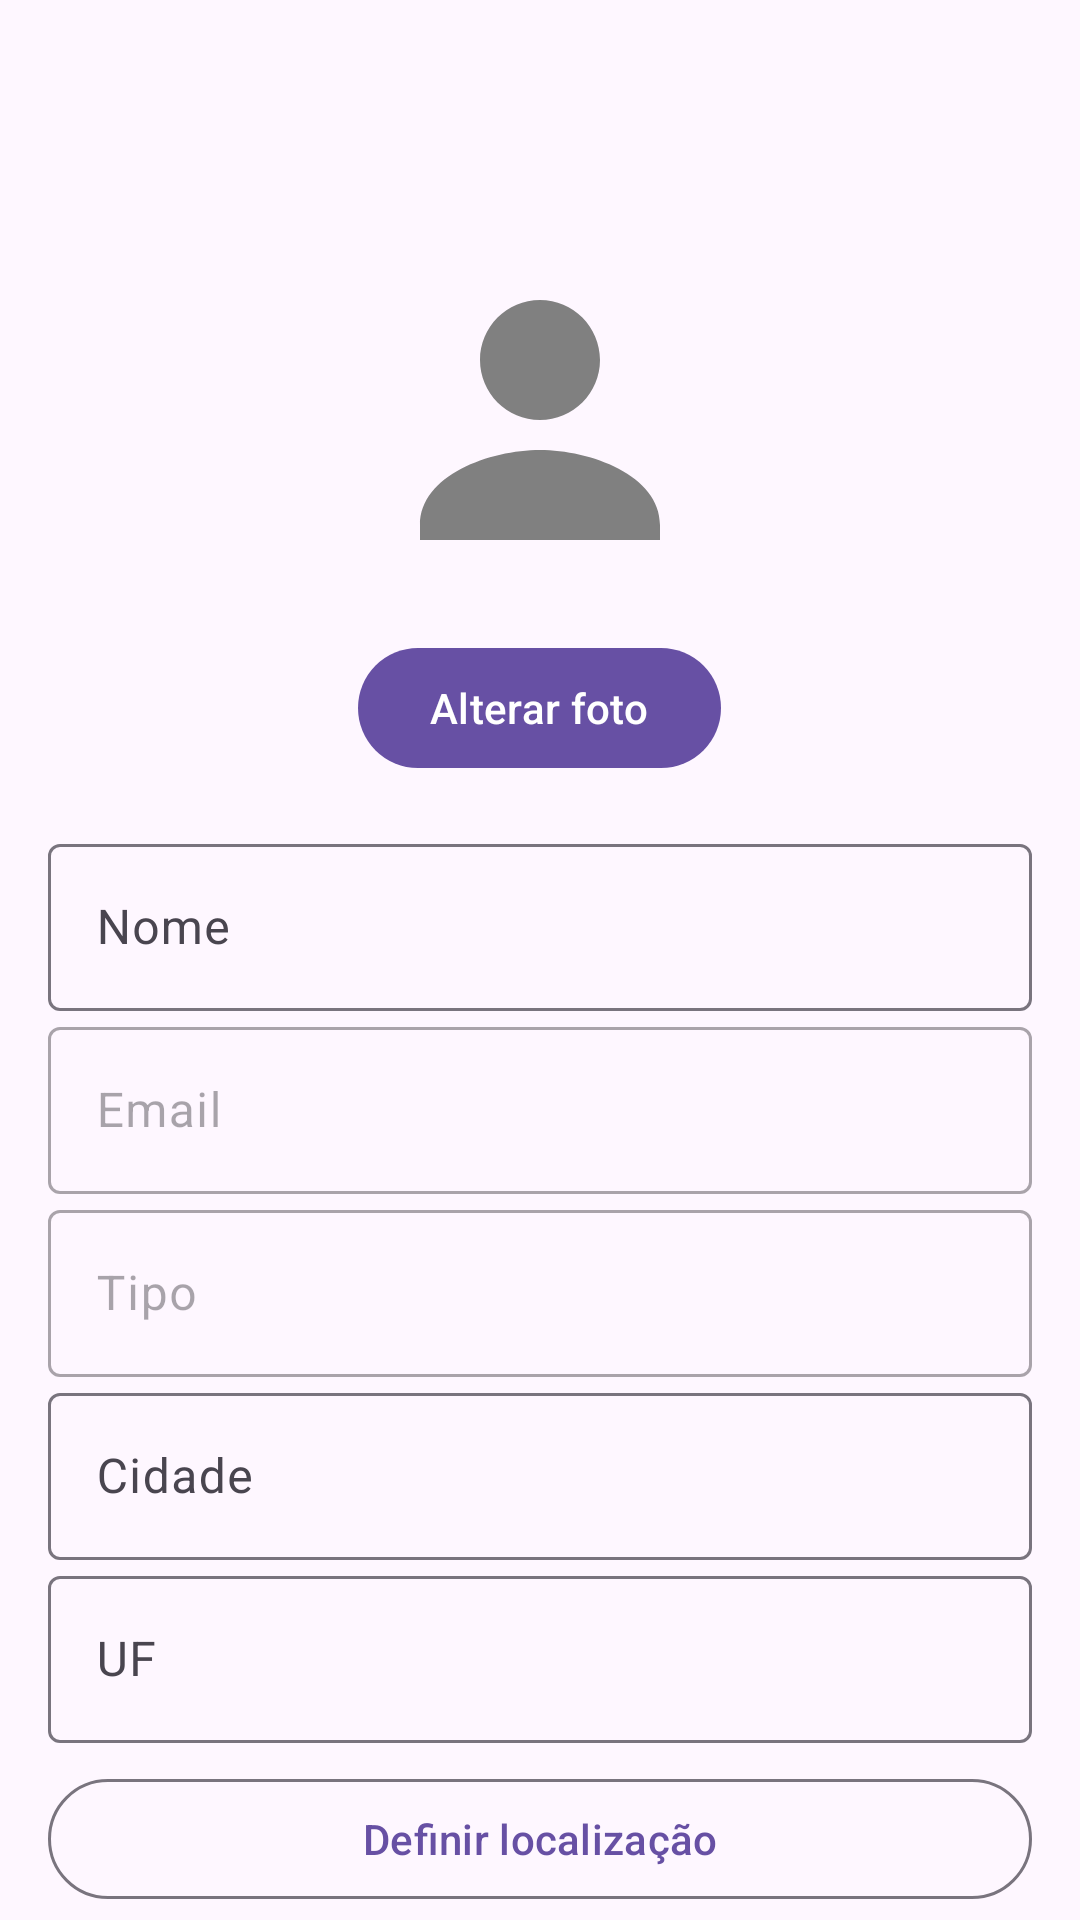

Where icons sit on this 1080px x 1920px app screen, as BBox(x1, y1, x2, y2):
account circle: BBox(420, 300, 660, 540)
